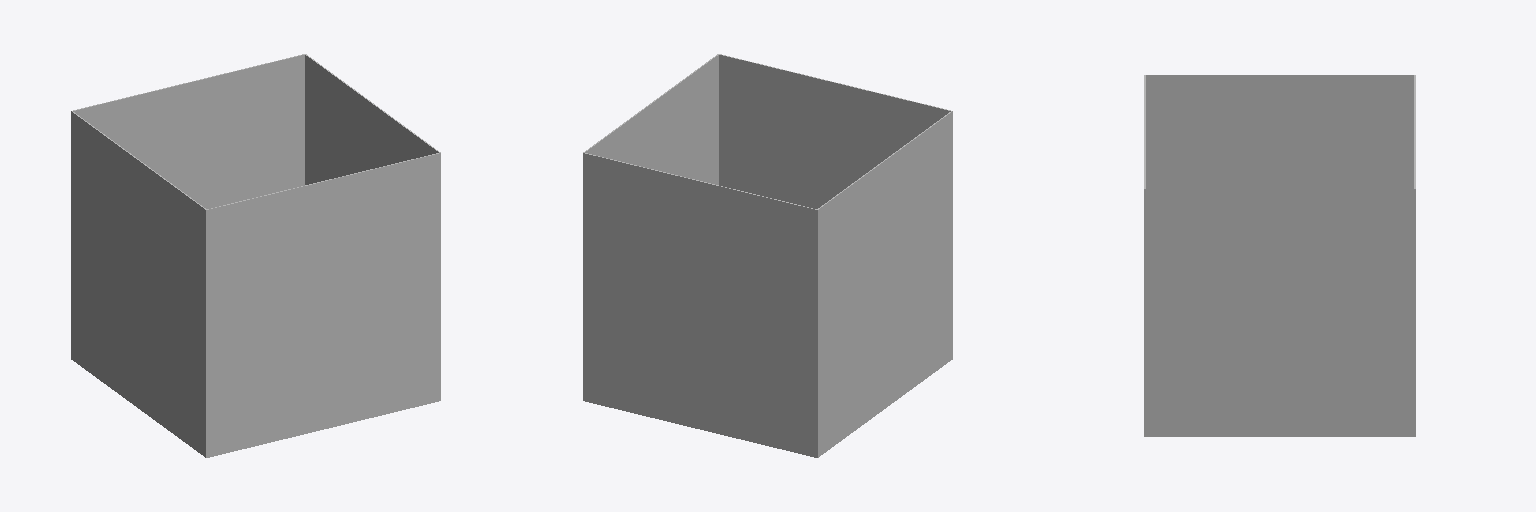
File: box_tall.obj
3 views of the same model, side by side, from view 1: azimuth 30°, elevation 25°; view 2: azimuth 150°, elevation 25°; view 3: azimuth 270°, elevation 25° (orthographic).
Parts seen in each view (by area): view 1: Cube; view 2: Cube; view 3: Cube.
Boxes of the visible parts, x1,y1,x2,y2 form: Cube: [71, 54, 440, 457]; Cube: [583, 54, 952, 457]; Cube: [1144, 75, 1415, 436].
Size of the model in its own units: 20 by 20.2 by 20.